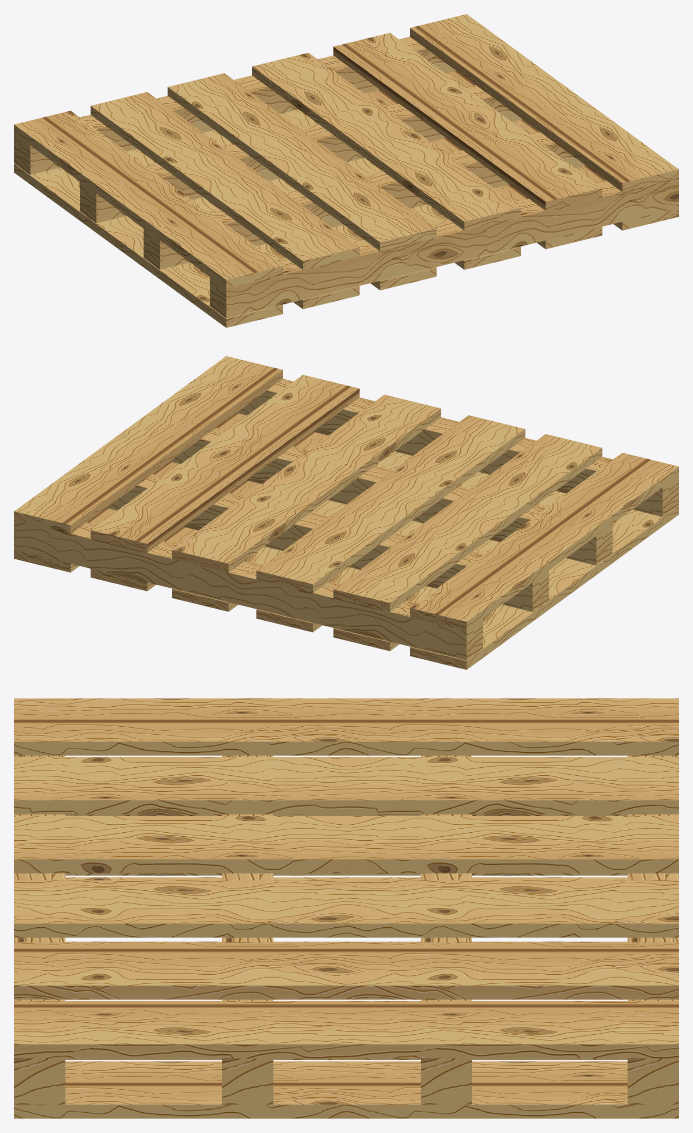
File: Pallet_Model.fbx
3 renders of one model, top to bottom at view 1: azimuth 30°, elevation 25°; view 2: azimuth 150°, elevation 25°; view 3: azimuth 270°, elevation 25°, orthographic. The views are drawn at different scales.
Parts seen in each view (by area): view 1: polySurface1, polySurface10, polySurface11, polySurface8, polySurface2, polySurface6, polySurface7, polySurface13, polySurface3, polySurface5, polySurface4, polySurface16 (+4 smaller); view 2: polySurface5, polySurface10, polySurface11, polySurface8, polySurface2, polySurface6, polySurface7, polySurface13, polySurface3, polySurface1, polySurface4, polySurface16 (+4 smaller); view 3: polySurface2, polySurface6, polySurface7, polySurface8, polySurface10, polySurface11, polySurface9, polySurface1, polySurface3, polySurface5, polySurface4, polySurface15 (+4 smaller).
Part boxes in pixels (left/top/right/bottom): polySurface1: left=210, top=178, right=678, bottom=318; polySurface10: left=333, top=33, right=602, bottom=210; polySurface11: left=90, top=92, right=359, bottom=269; polySurface8: left=167, top=73, right=436, bottom=250; polySurface2: left=14, top=110, right=282, bottom=288; polySurface6: left=252, top=52, right=520, bottom=230; polySurface7: left=410, top=14, right=678, bottom=191; polySurface13: left=14, top=163, right=282, bottom=327; polySurface3: left=143, top=131, right=585, bottom=269; polySurface5: left=14, top=37, right=456, bottom=174; polySurface4: left=80, top=85, right=522, bottom=223; polySurface16: left=281, top=109, right=520, bottom=269; polySurface5: left=14, top=520, right=482, bottom=660; polySurface10: left=90, top=375, right=359, bottom=552; polySurface11: left=333, top=434, right=602, bottom=611; polySurface8: left=256, top=415, right=525, bottom=592; polySurface2: left=410, top=452, right=678, bottom=630; polySurface6: left=172, top=394, right=440, bottom=572; polySurface7: left=14, top=356, right=282, bottom=533; polySurface13: left=410, top=505, right=678, bottom=669; polySurface3: left=170, top=427, right=612, bottom=565; polySurface1: left=236, top=379, right=678, bottom=516; polySurface4: left=107, top=474, right=548, bottom=611; polySurface16: left=172, top=451, right=411, bottom=611; polySurface2: left=14, top=698, right=678, bottom=755; polySurface6: left=14, top=880, right=678, bottom=937; polySurface7: left=14, top=1001, right=678, bottom=1058; polySurface8: left=14, top=816, right=678, bottom=873; polySurface10: left=14, top=942, right=678, bottom=999; polySurface11: left=14, top=757, right=678, bottom=814; polySurface9: left=14, top=1061, right=678, bottom=1118; polySurface1: left=14, top=755, right=65, bottom=1104; polySurface3: left=222, top=755, right=273, bottom=1104; polySurface5: left=627, top=755, right=678, bottom=1104; polySurface4: left=421, top=755, right=471, bottom=1104; polySurface15: left=65, top=877, right=627, bottom=880.
Bounding box in the file's own units: 203 × 20.61 × 165.
